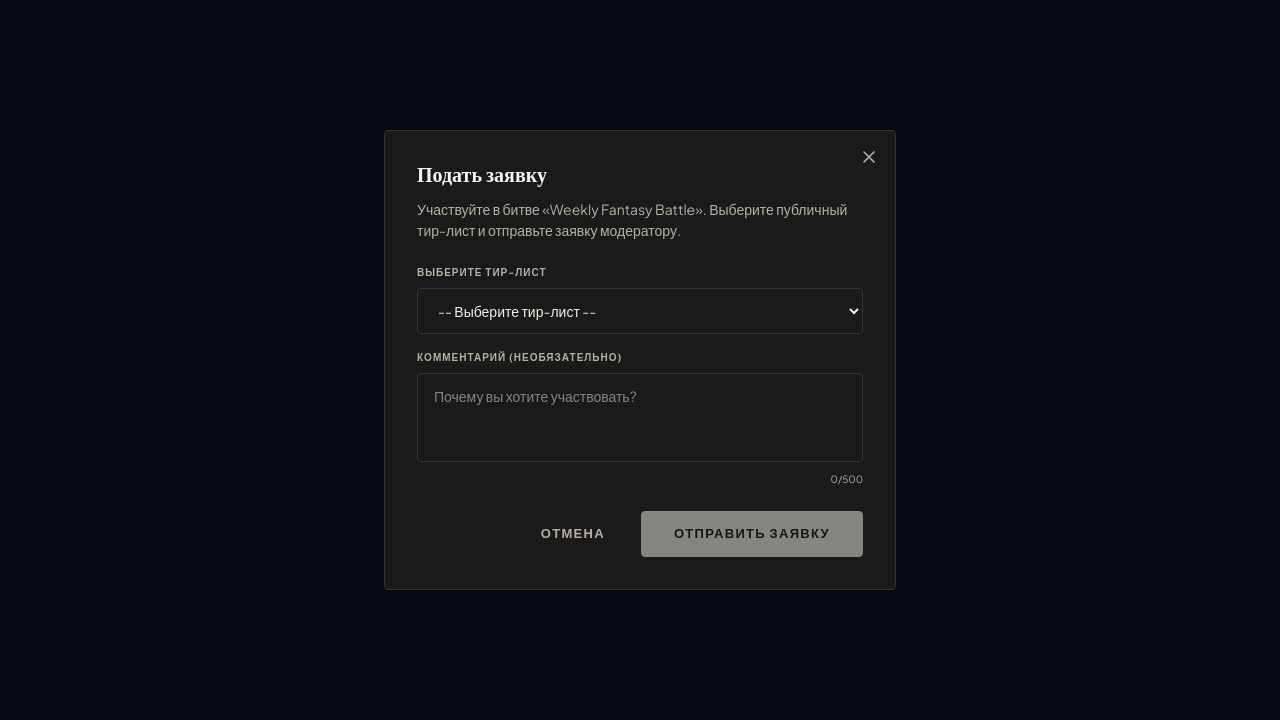
BattleApplyModal › должен показывать ошибку при неудачной отправке
The width and height of the screenshot is (1280, 720).
Select "My Fantasy List" in the dropdown at (640, 311), box [417,288,863,334]
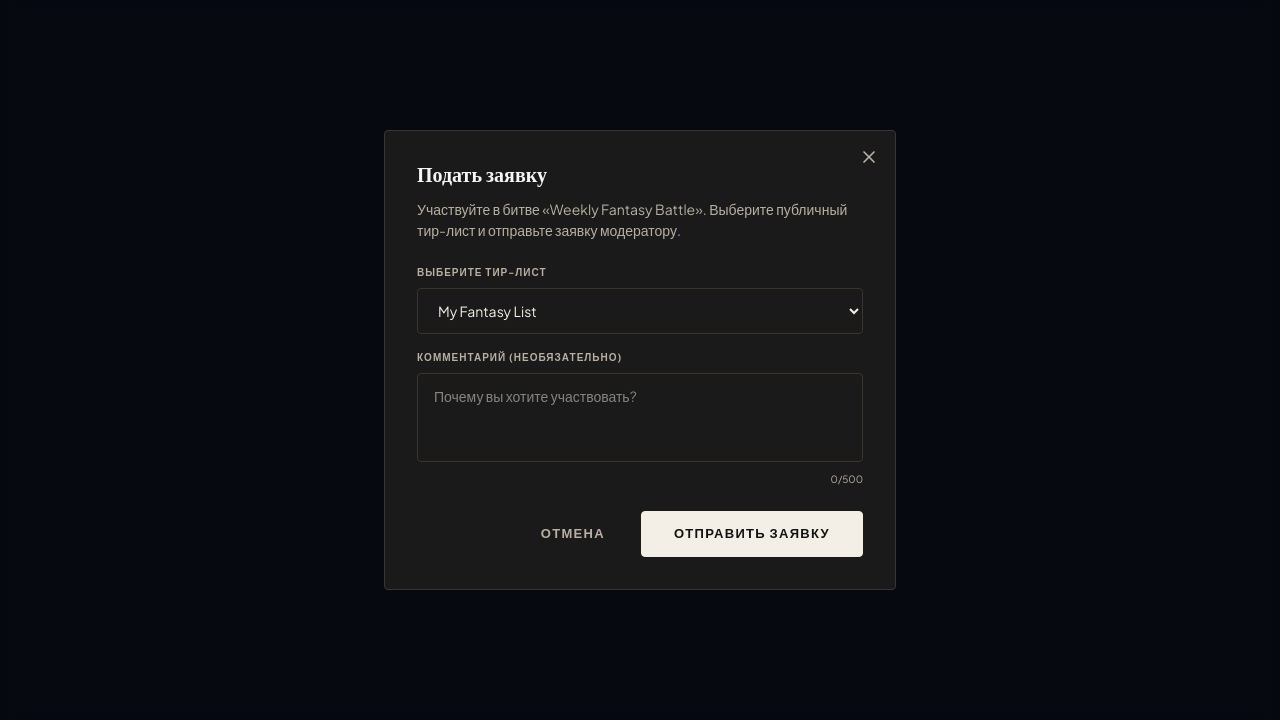
Click the button "Отправить заявку" at (752, 534), box [641,511,863,557]
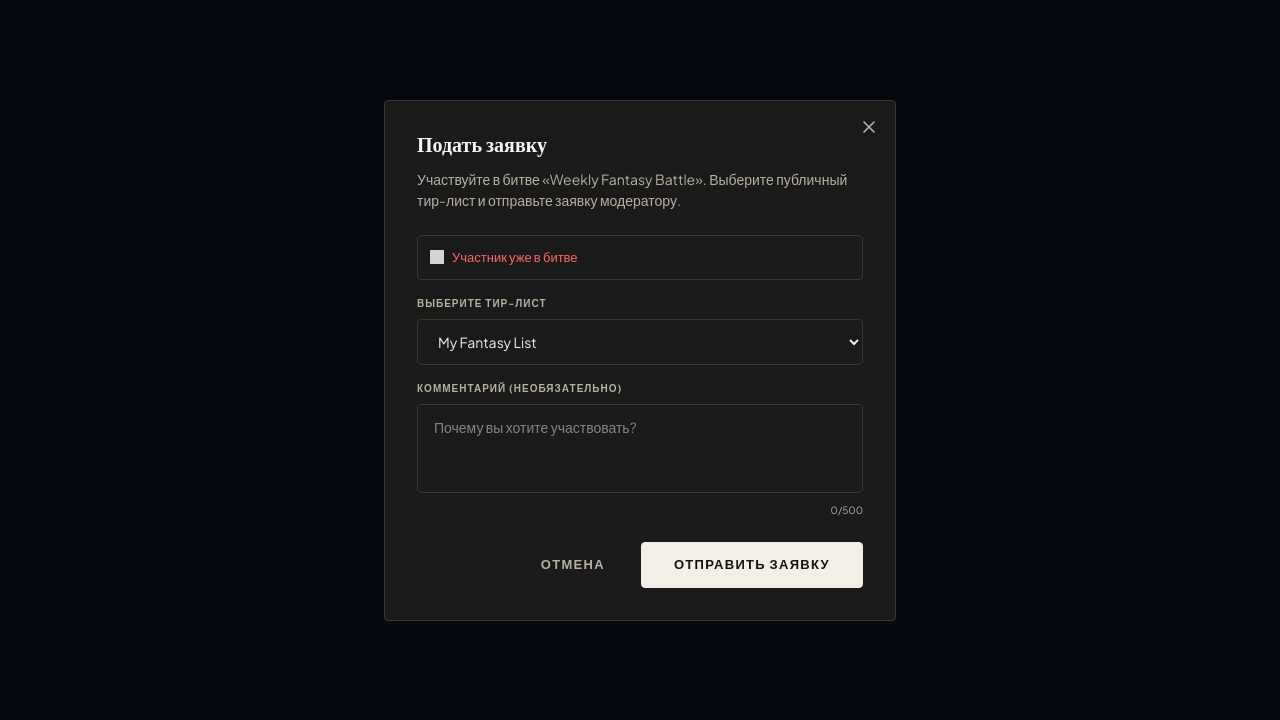
Now the text "Участник уже в битве" is shown, box [452,248,578,267]
